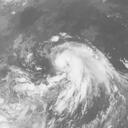cyclone: (53, 42, 107, 87)
